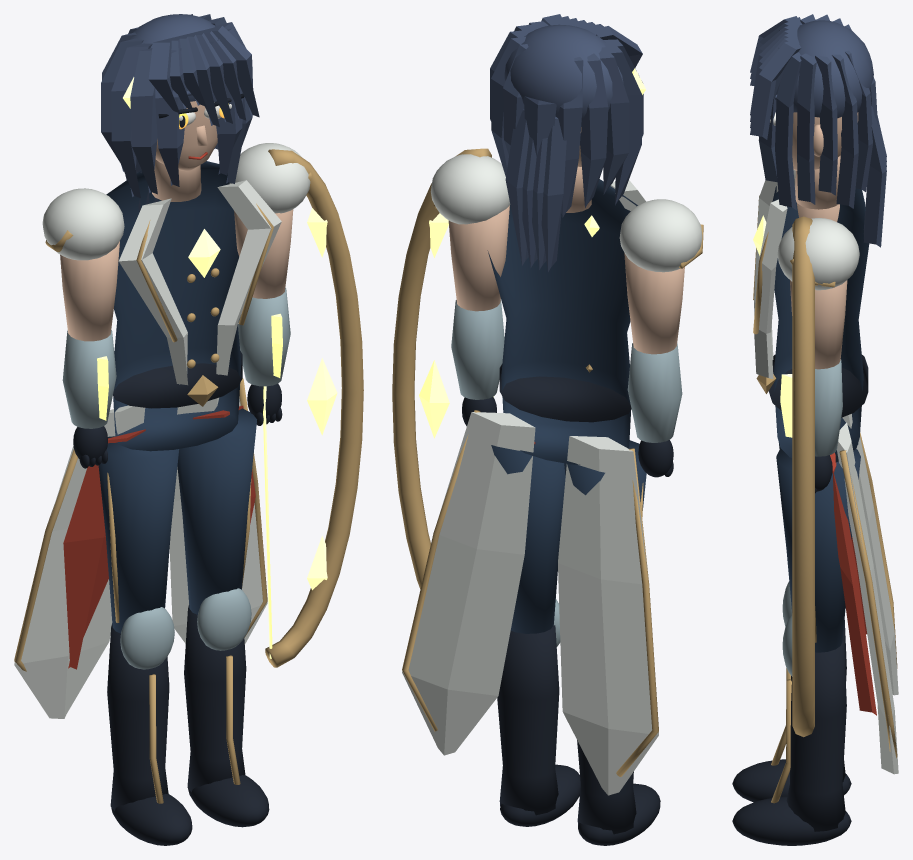
File: kael.glb
3 views of the same model, side by side, from view 1: azimuth 30°, elevation 25°; view 2: azimuth 150°, elevation 25°; view 3: azimuth 270°, elevation 25° (orthographic).
Visible parts, largest first — view 1: belt clasp, asymmetric fringe, coat lining, bow crystal, boot gold rail, boot gold rail.001, fitted trousers, fitted trousers.001, pauldron.001, shoulder edge.001, finger.001, coat lining.001 (+1 smaller); view 2: belt clasp, coat lining, coat lining.001, asymmetric fringe, boot gold rail.001, bow crystal, pauldron.001, shoulder edge.001, fitted trousers.001, tied indigo hair, finger.001, finger.005 (+2 smaller); view 3: asymmetric fringe, belt clasp, boot gold rail.001, bow crystal, coat lining.001, fitted trousers.001, shoulder edge.001, finger.005, coat lining, boot gold rail, tied indigo hair, pauldron.001.
Part boxes in pixels (box(x1,y1,x2,y2)): belt clasp: box(106, 159, 281, 451); asymmetric fringe: box(101, 14, 259, 198); coat lining: box(14, 405, 145, 718); bow crystal: box(263, 149, 363, 667); boot gold rail: box(107, 607, 192, 845); boot gold rail.001: box(184, 588, 269, 827); fitted trousers: box(98, 436, 179, 633); fitted trousers.001: box(177, 408, 256, 614); pauldron.001: box(42, 188, 124, 341); shoulder edge.001: box(229, 143, 311, 298); finger.001: box(62, 330, 116, 468); coat lining.001: box(169, 378, 267, 644); belt clasp: box(487, 166, 646, 464); coat lining: box(558, 436, 658, 795); coat lining.001: box(402, 410, 535, 755); asymmetric fringe: box(490, 14, 645, 217); boot gold rail.001: box(497, 598, 580, 826); bow crystal: box(392, 148, 493, 589); pauldron.001: box(619, 199, 703, 354); shoulder edge.001: box(430, 154, 510, 311); fitted trousers.001: box(491, 445, 565, 633); tied indigo hair: box(505, 109, 566, 271); finger.001: box(627, 343, 682, 477); finger.005: box(451, 299, 504, 426); asymmetric fringe: box(750, 14, 877, 210); belt clasp: box(753, 155, 869, 462); boot gold rail.001: box(732, 615, 851, 845); bow crystal: box(792, 216, 814, 737); coat lining.001: box(830, 422, 898, 774); fitted trousers.001: box(776, 449, 860, 652); shoulder edge.001: box(777, 218, 859, 369); finger.005: box(780, 359, 842, 493); coat lining: box(842, 414, 898, 695); boot gold rail: box(732, 581, 851, 802); tied indigo hair: box(863, 104, 886, 247); pauldron.001: box(793, 170, 839, 221).
Size of the model in its own units: 0.904 by 2.24 by 0.424.
